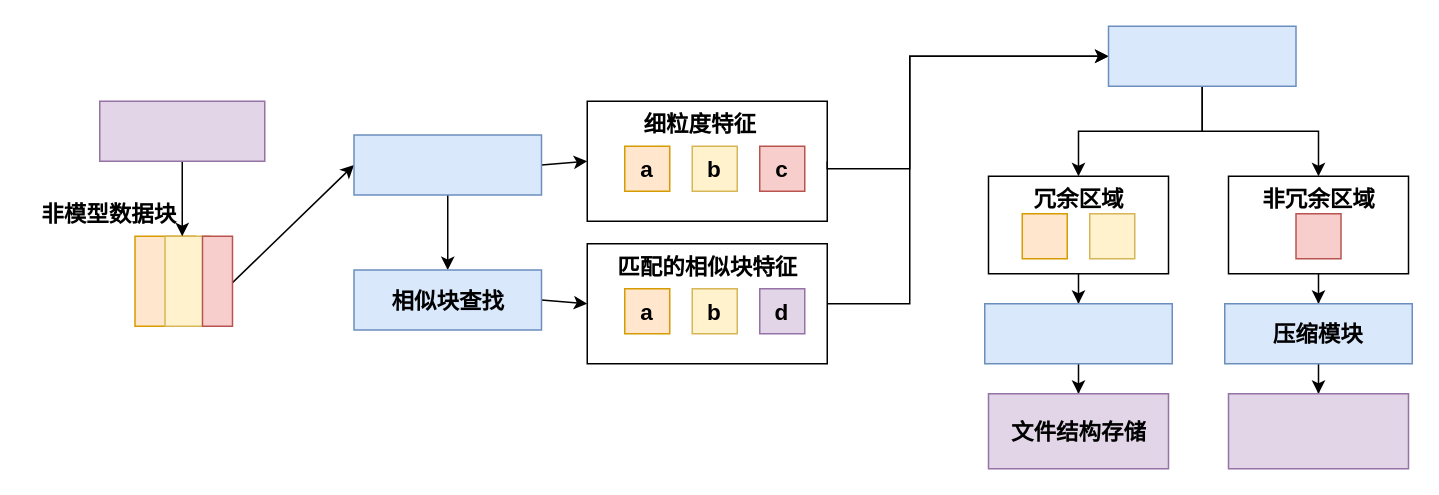
The diagram is 1439 pixels wide and 495 high, and some of its shapes have lost their labels. Each missing label, with the centre of its shape:
"冗余去除器" goes at (x=1201, y=55).
"引用索引" goes at (x=1077, y=333).
"数据类型鉴别模块" goes at (x=181, y=130).
"磁盘存储" goes at (x=1317, y=430).
"细粒度特征提取" goes at (x=447, y=164).
